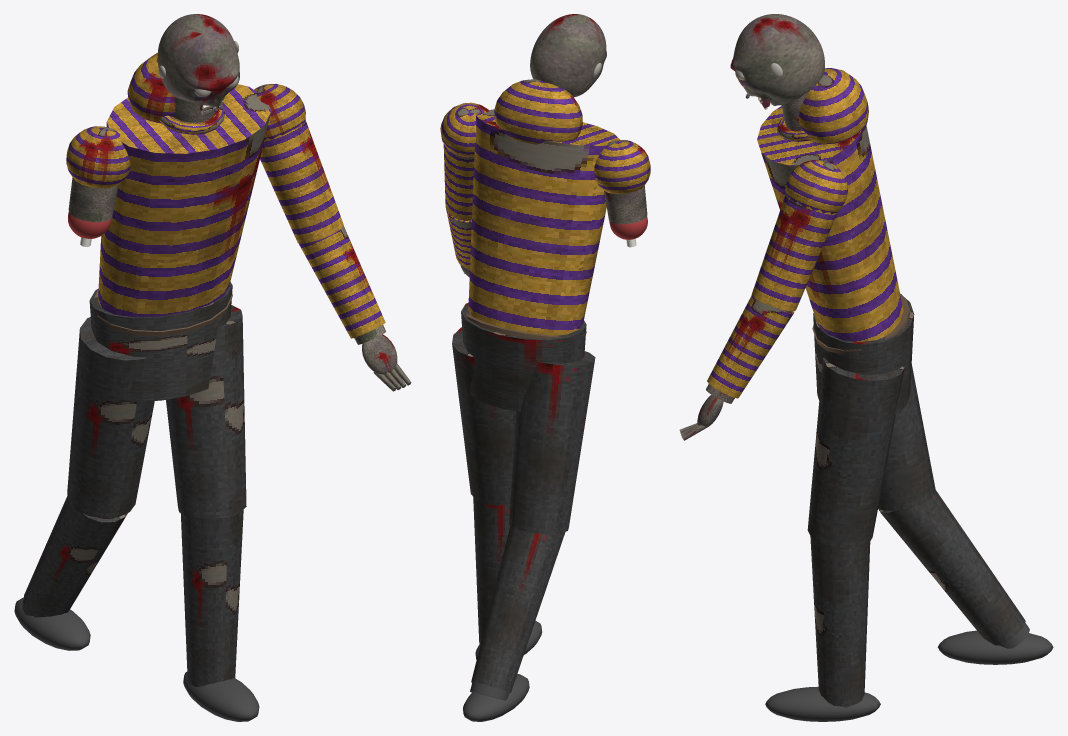
Rendered from Zombie_021.glb.
3 views of the same model, side by side, from view 1: azimuth 30°, elevation 25°; view 2: azimuth 150°, elevation 25°; view 3: azimuth 270°, elevation 25° (orthographic). The views are drawn at different scales.
Parts seen in each view (by area): view 1: Zombie_021, object 10, object 4, object 5; view 2: Zombie_021, object 10, object 4; view 3: Zombie_021, object 10, object 4.
Part boxes in pixels (x1,y1,x2,y2): Zombie_021: (14, 53, 343, 721); object 10: (157, 14, 239, 107); object 4: (298, 226, 385, 338); object 5: (362, 334, 397, 374); Zombie_021: (440, 79, 650, 721); object 10: (530, 14, 606, 97); object 4: (446, 208, 471, 268); Zombie_021: (751, 68, 1053, 721); object 10: (730, 14, 824, 105); object 4: (707, 295, 794, 398).
Size of the model in its own units: 0.7233 by 1.85 by 0.9213.
17 materials, 5 textured.
